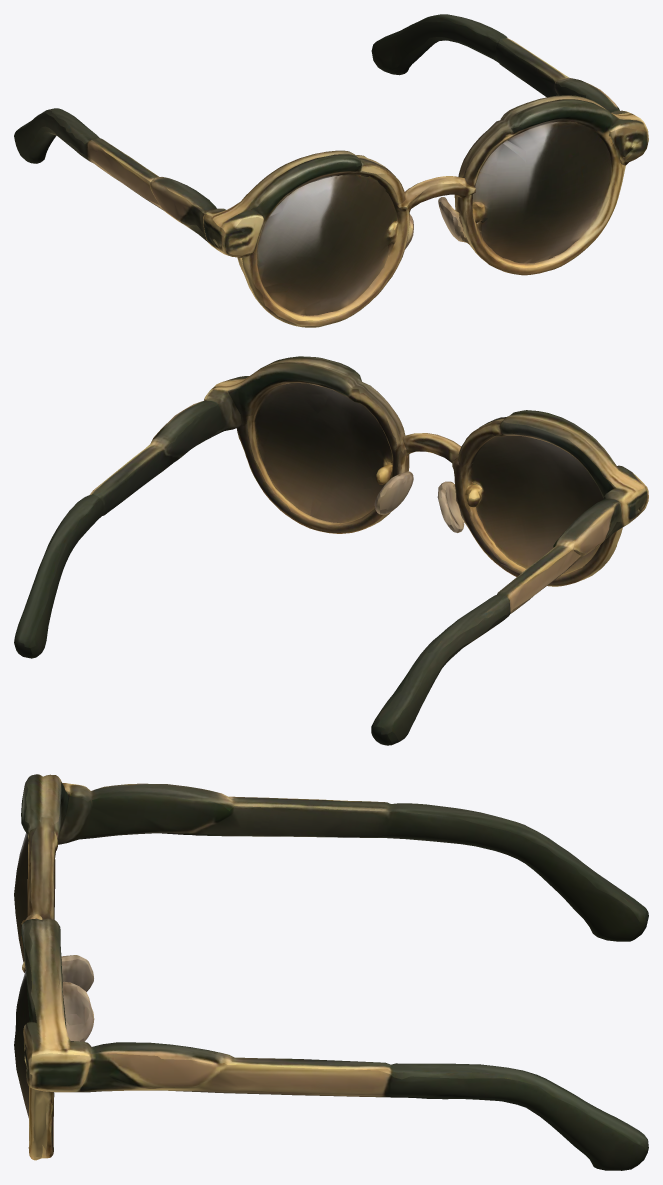
File: glasses.glb
3 renders of one model, top to bottom at view 1: azimuth 30°, elevation 25°; view 2: azimuth 150°, elevation 25°; view 3: azimuth 270°, elevation 25°, orthographic. The views are drawn at different scales.
Visible parts, largest first — view 1: geometry_0; view 2: geometry_0; view 3: geometry_0.
Boxes of the visible parts, bbox=[...] form: geometry_0: bbox=[14, 14, 648, 327]; geometry_0: bbox=[14, 356, 648, 745]; geometry_0: bbox=[14, 774, 648, 1170].
Size of the model in its own units: 0.145 by 0.0544 by 0.1423.
Materials: 1 (1 with a texture image).
